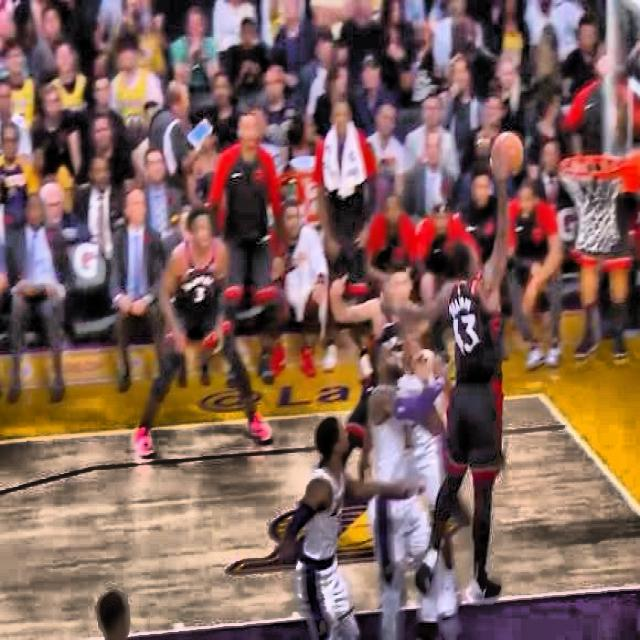rim: (557, 152, 626, 255)
